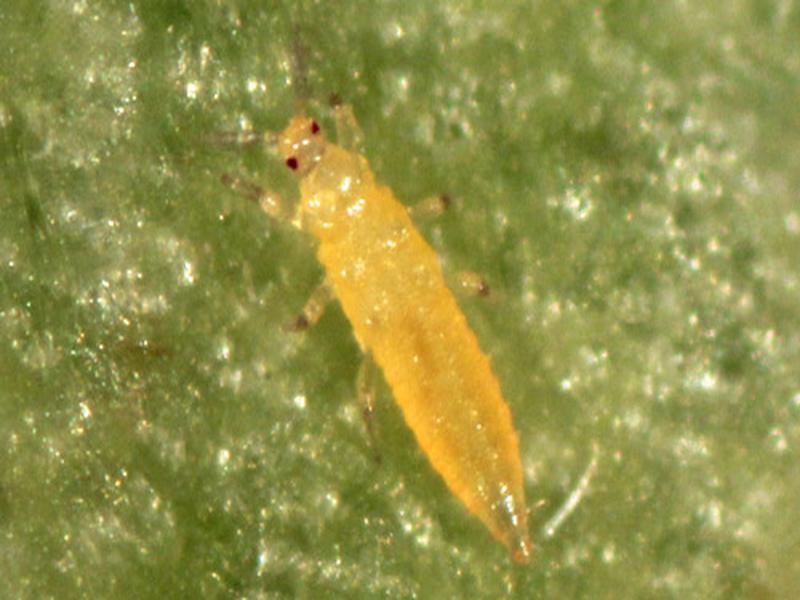Thrips: (247, 108, 589, 558)
